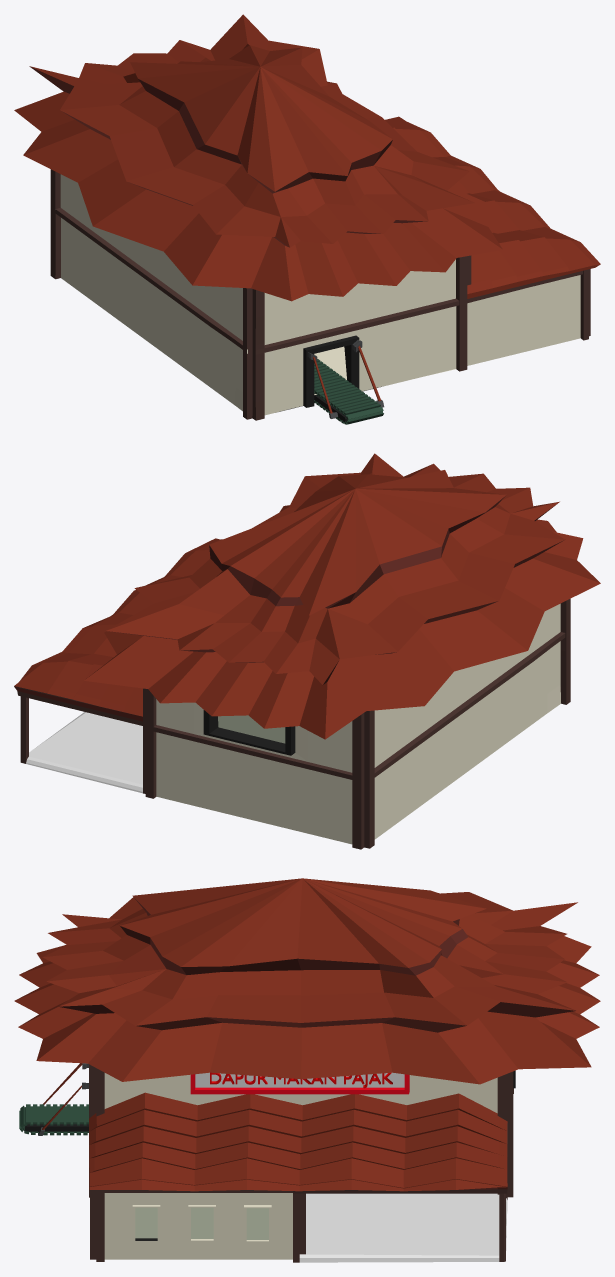
The model's file is DapurMBG.fbx.
The picture shows the model from 3 angles, top to bottom: view 1: azimuth 30°, elevation 25°; view 2: azimuth 150°, elevation 25°; view 3: azimuth 270°, elevation 25°; orthographic projection. The views are drawn at different scales.
Parts seen in each view (by area): view 1: Cube, Cube.003; view 2: Cube; view 3: Cube, Text, Cube.003.
Boxes of the visible parts, box(x1,y1,x2,y2) form: Cube: box(14, 14, 600, 421); Cube.003: box(314, 359, 383, 424); Cube: box(14, 453, 600, 849); Cube: box(14, 878, 600, 1262); Text: box(190, 1072, 409, 1094); Cube.003: box(19, 1104, 88, 1135).
Size of the model in its own units: 26059 by 15346 by 30722.
